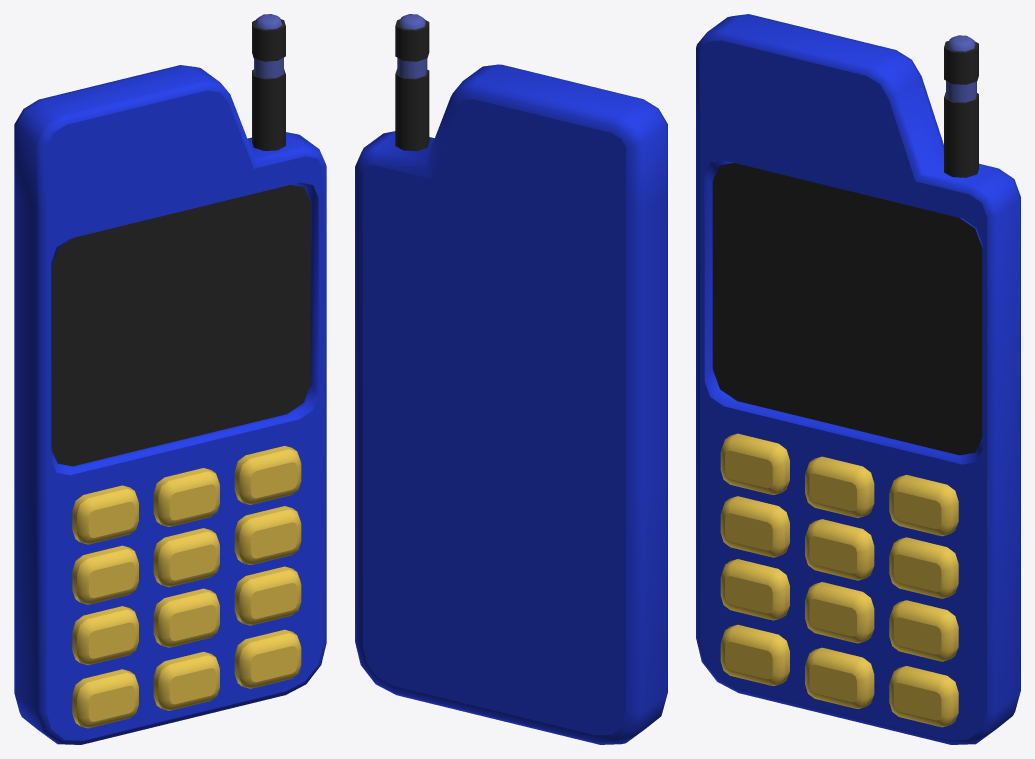
Rendered from Phone-4.fbx.
3 views of the same model, side by side, from view 1: azimuth 30°, elevation 25°; view 2: azimuth 150°, elevation 25°; view 3: azimuth 330°, elevation 25° (orthographic). The views are drawn at different scales.
Visible parts, largest first — view 1: Phone-4; view 2: Phone-4; view 3: Phone-4.
Part boxes in pixels (x1,y1,x2,y2): Phone-4: (14,14,326,744); Phone-4: (355,14,667,744); Phone-4: (696,14,1020,744).
Size of the model in its own units: 76.08 by 168 by 18.37.
